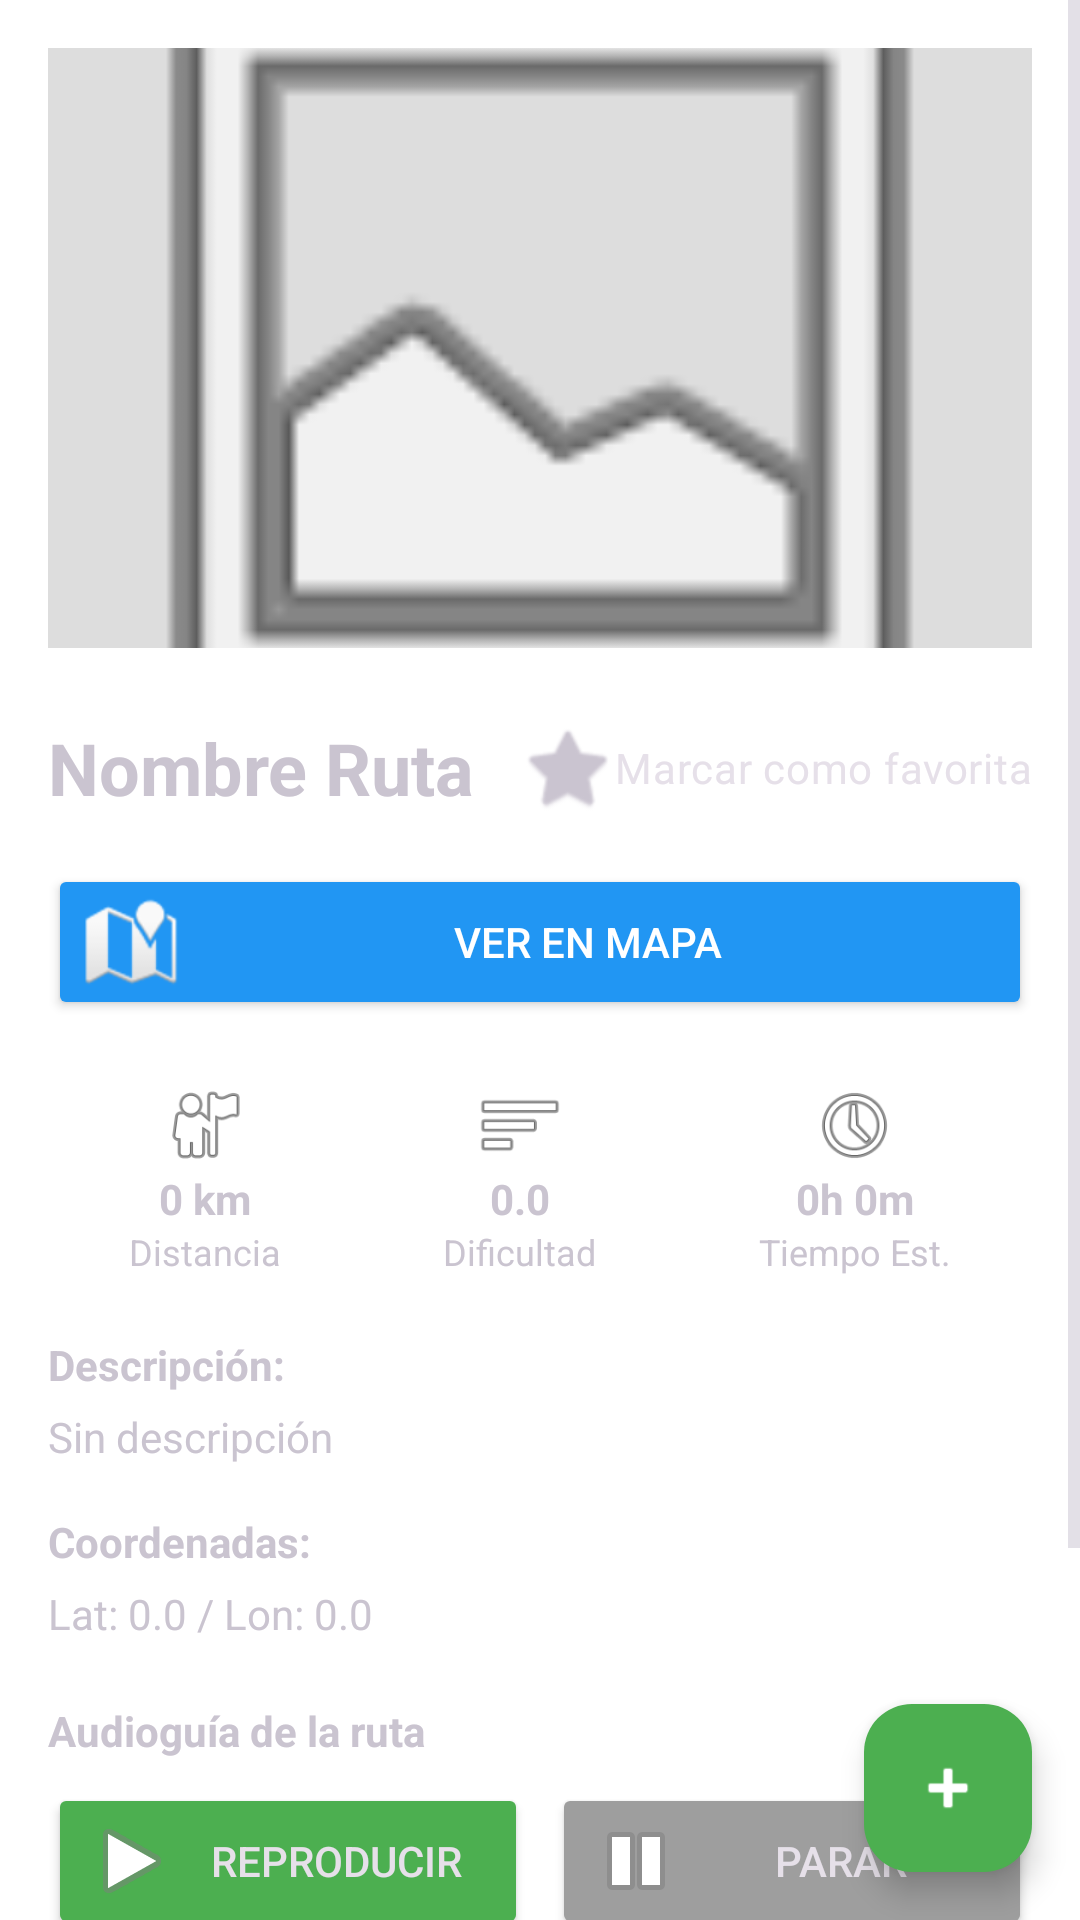

Screen size 1080 x 1920. Icon name, then its center in pixels as (x=x, y=y):
Añadir punto de interés: (x=948, y=1788)
recent history: (x=854, y=1125)
sort by size: (x=520, y=1125)
